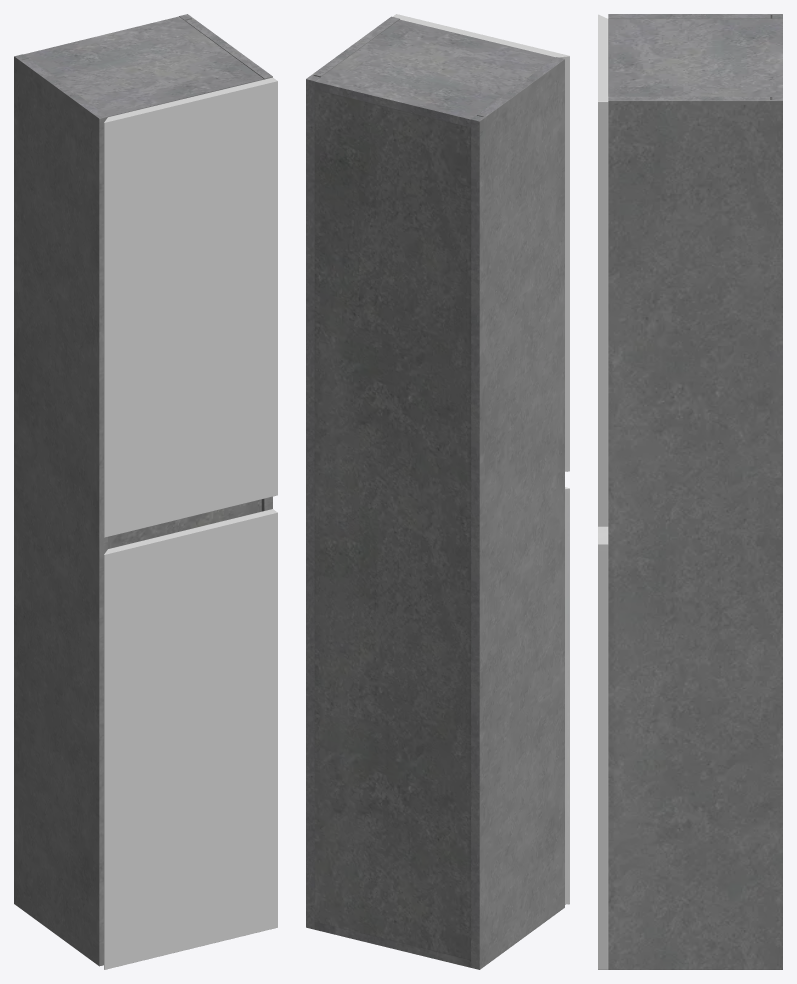
The model's file is abo-B07RMJPJM6.glb.
3 renders of one model, left to right at view 1: azimuth 30°, elevation 25°; view 2: azimuth 150°, elevation 25°; view 3: azimuth 270°, elevation 25°, orthographic. The views are drawn at different scales.
Size of the model in its own units: 0.3 by 1.4 by 0.27.
Materials: 1 (1 with a texture image).
